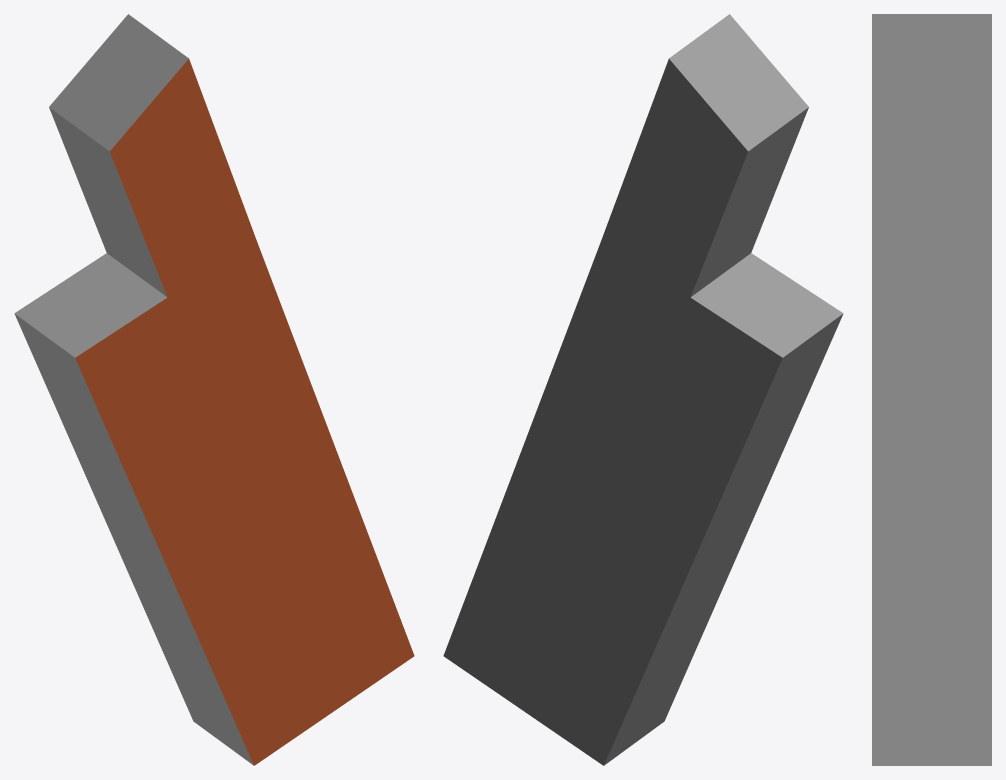
Rendered from construction_1416_assumed_A_Casa_h6m.obj.
3 views of the same model, side by side, from view 1: azimuth 30°, elevation 25°; view 2: azimuth 150°, elevation 25°; view 3: azimuth 270°, elevation 25° (orthographic).
Parts seen in each view (by area): view 1: construction_1416_assumed_A_Casa; view 2: construction_1416_assumed_A_Casa; view 3: construction_1416_assumed_A_Casa.
Boxes of the visible parts, <box> form: construction_1416_assumed_A_Casa: <box>14,14,414,765</box>; construction_1416_assumed_A_Casa: <box>443,14,843,765</box>; construction_1416_assumed_A_Casa: <box>872,14,991,765</box>.
Size of the model in its own units: 19.34 by 39.38 by 6.
